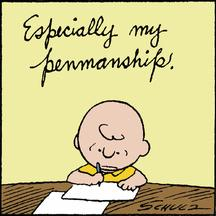charlie: (65, 99, 150, 191)
